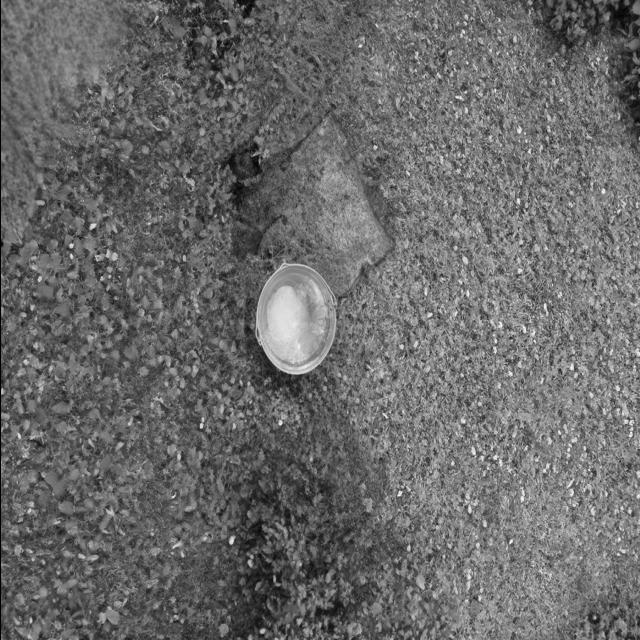Breeding Place: (238, 253, 354, 384)
